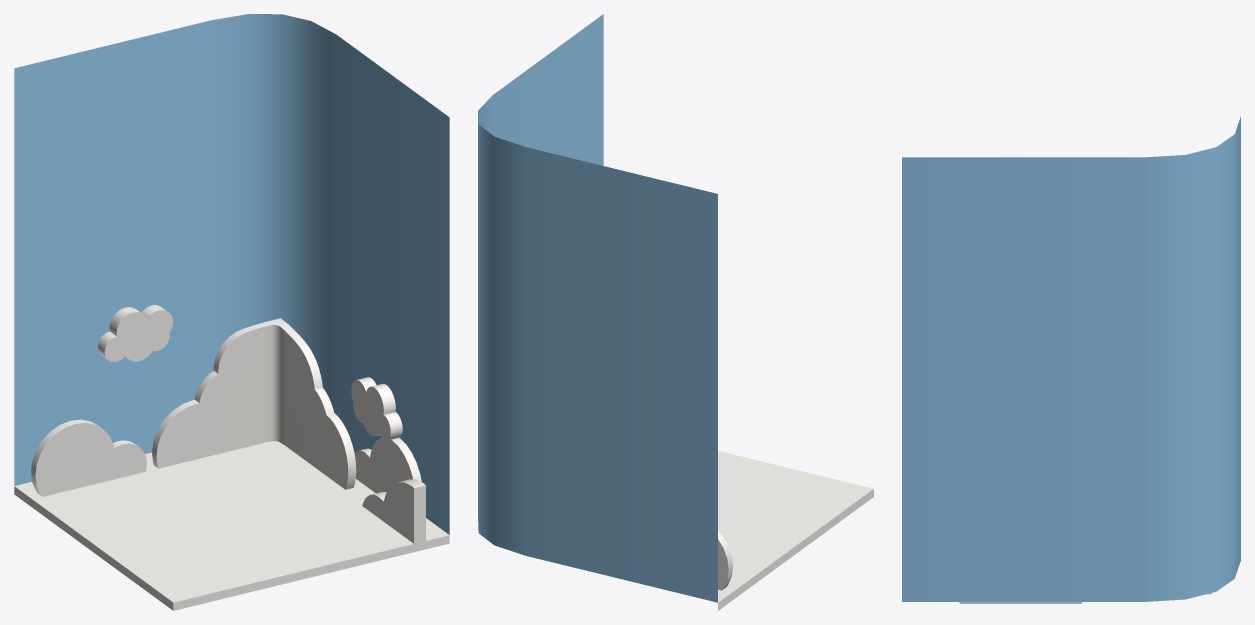
The model's file is StudioBase_01.FBX.
3 renders of one model, left to right at view 1: azimuth 30°, elevation 25°; view 2: azimuth 150°, elevation 25°; view 3: azimuth 270°, elevation 25°, orthographic. The views are drawn at different scales.
Parts seen in each view (by area): view 1: StudioBase_Sky_01, StudioBase_Cloud_01; view 2: StudioBase_Sky_01, StudioBase_Cloud_01; view 3: StudioBase_Sky_01.
Boxes of the visible parts, bbox=[...] form: StudioBase_Sky_01: bbox=[14, 14, 449, 610]; StudioBase_Cloud_01: bbox=[31, 305, 425, 547]; StudioBase_Sky_01: bbox=[478, 14, 873, 610]; StudioBase_Cloud_01: bbox=[718, 531, 732, 590]; StudioBase_Sky_01: bbox=[902, 116, 1240, 601].
Size of the model in its own units: 34.6 by 51 by 34.53.
